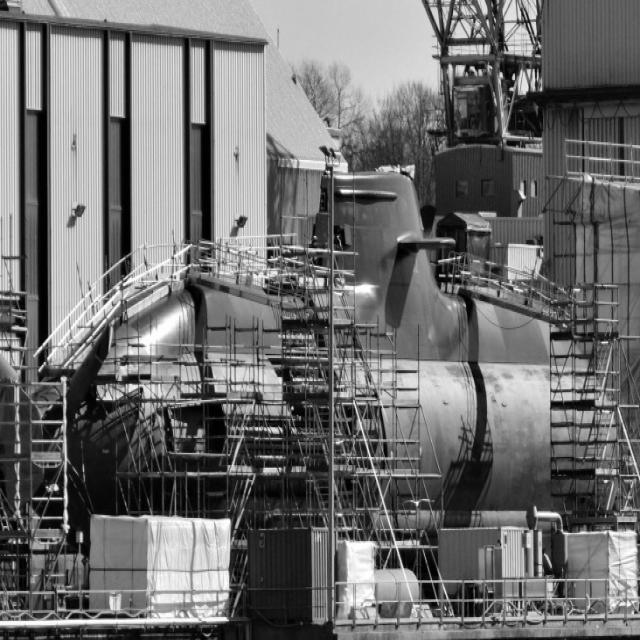submarine: (1, 174, 625, 509)
